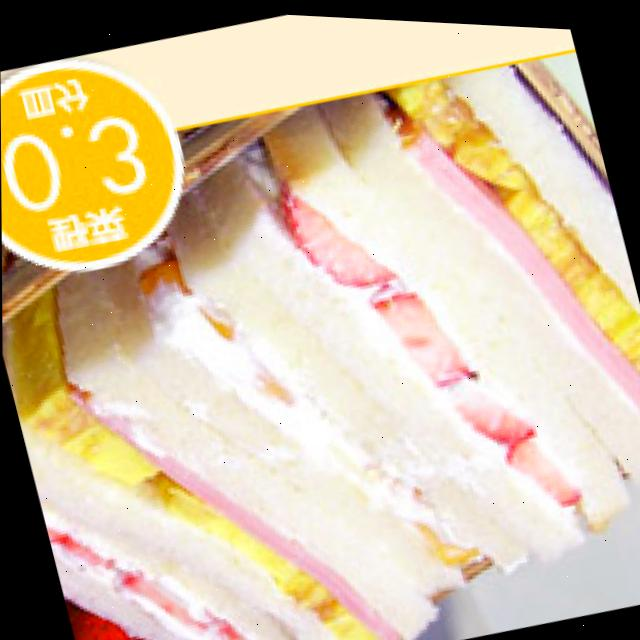三明治: (1, 139, 640, 640)
